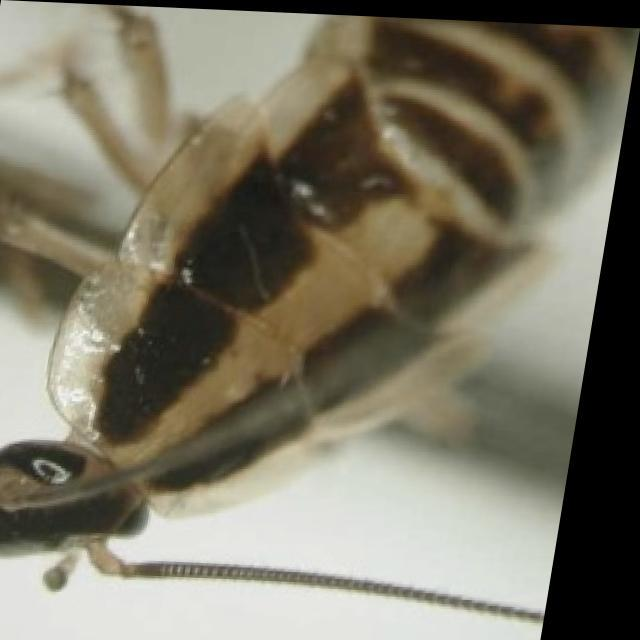cockroach: (3, 11, 622, 609)
